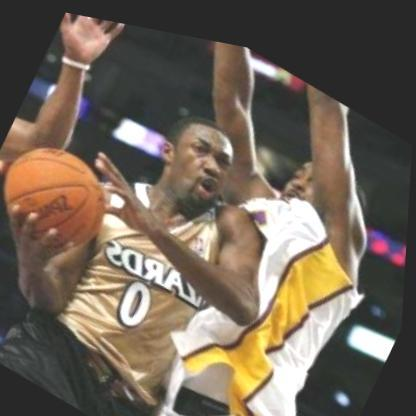basketball: (1, 128, 117, 257)
